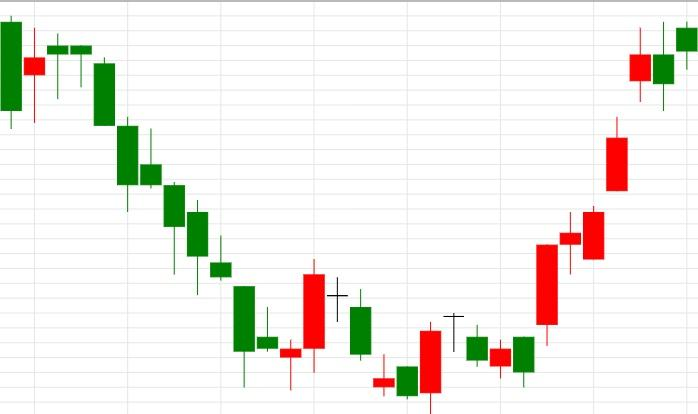bullish_engulfing_rise: (328, 276, 441, 414)
